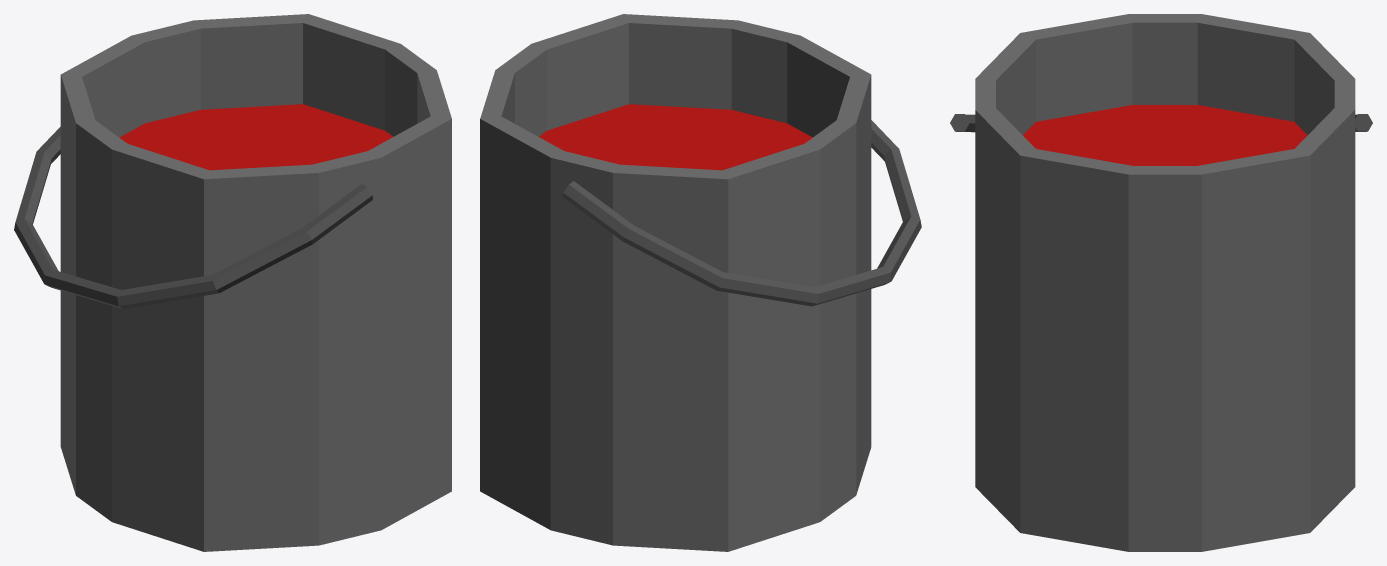
3 views of the same model, side by side, from view 1: azimuth 30°, elevation 25°; view 2: azimuth 150°, elevation 25°; view 3: azimuth 270°, elevation 25° (orthographic).
Parts seen in each view (by area): view 1: G-28, Torus.003; view 2: G-28, Torus.003; view 3: G-28, Torus.003.
Part boxes in pixels (box(x1,y1,x2,y2)): G-28: box(60, 14, 451, 551); Torus.003: box(14, 127, 372, 308); G-28: box(480, 14, 871, 551); Torus.003: box(562, 120, 921, 306); G-28: box(975, 14, 1355, 551); Torus.003: box(950, 114, 1372, 132).
Bounding box in the file's own units: 61.9 × 58.57 × 59.48.
